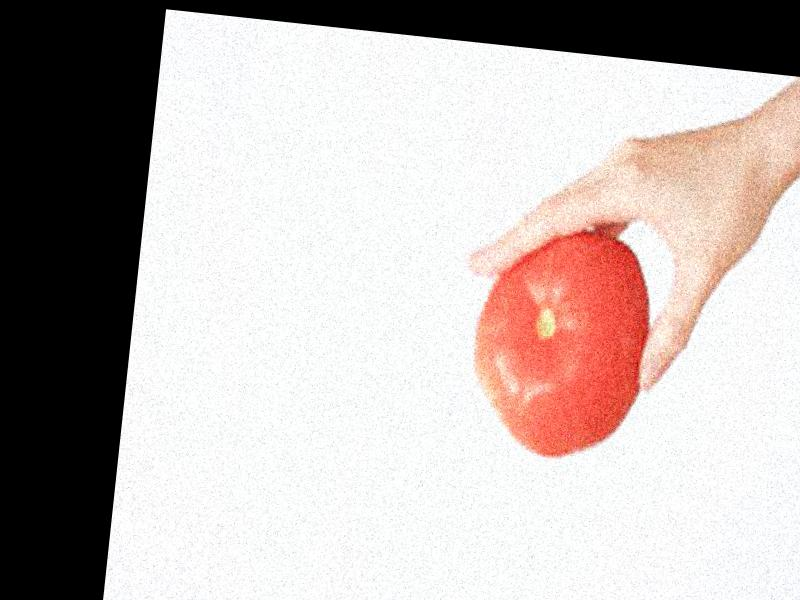Tomato: (463, 226, 657, 464)
